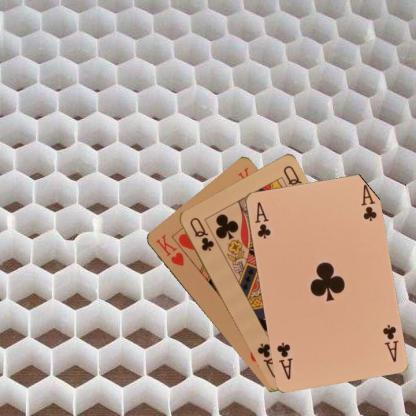Ac: (379, 322, 400, 364), (252, 199, 272, 240)
Kh: (152, 232, 185, 268)
Qc: (186, 214, 216, 252)
